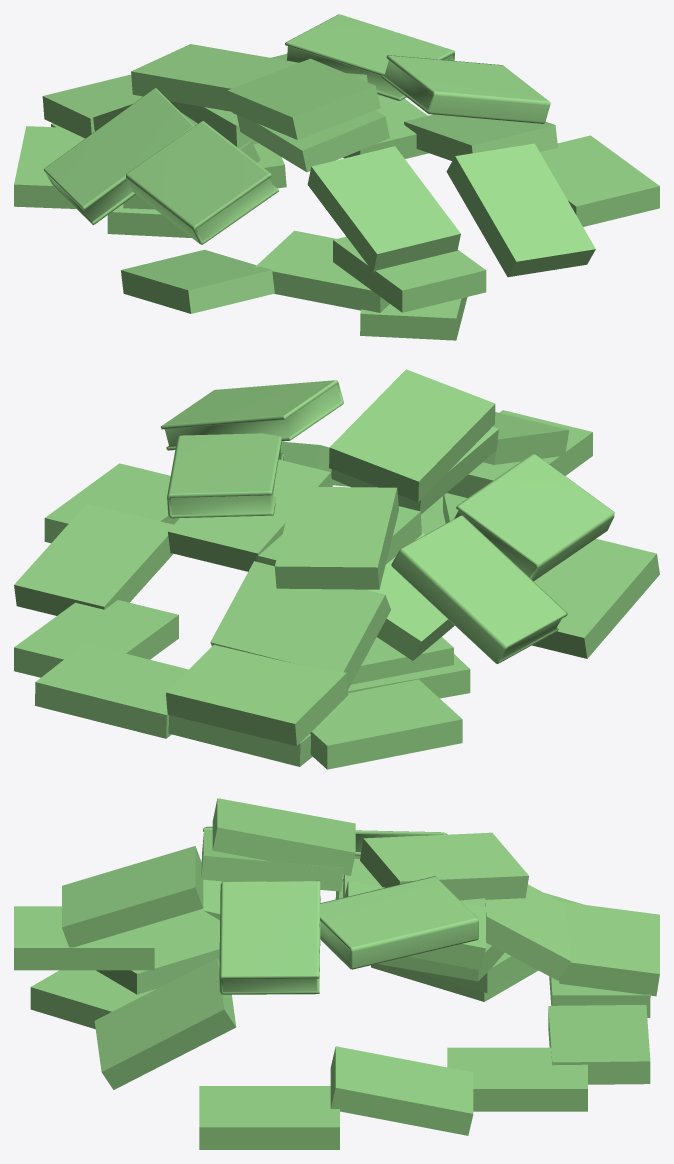
The model's file is Book_Pile_07C_Lod0.fbx.
3 views of the same model, one above another, from view 1: azimuth 30°, elevation 25°; view 2: azimuth 150°, elevation 25°; view 3: azimuth 270°, elevation 25° (orthographic). The views are drawn at different scales.
Visible parts, largest first — view 1: Book_Pile_07C_Lod0; view 2: Book_Pile_07C_Lod0; view 3: Book_Pile_07C_Lod0.
Boxes of the visible parts, bbox=[...] form: Book_Pile_07C_Lod0: bbox=[14, 14, 659, 340]; Book_Pile_07C_Lod0: bbox=[14, 369, 659, 769]; Book_Pile_07C_Lod0: bbox=[14, 798, 659, 1149].
Bounding box in the file's own units: 130 × 48.06 × 145.
